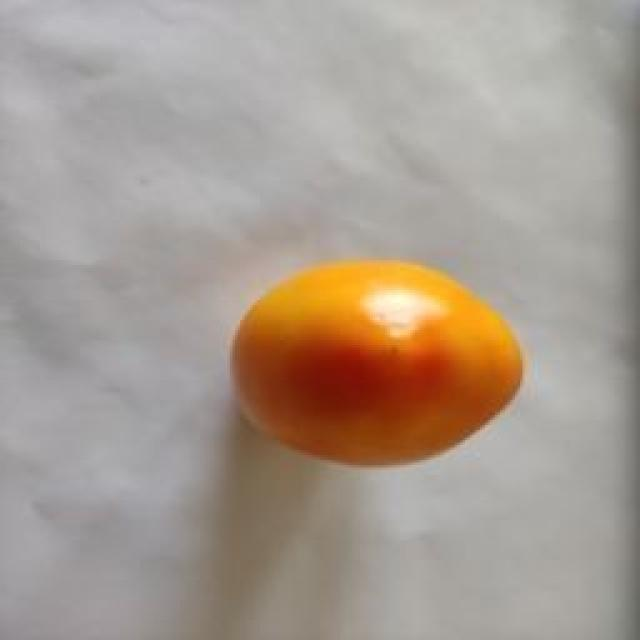unripe: (157, 150, 485, 560)
